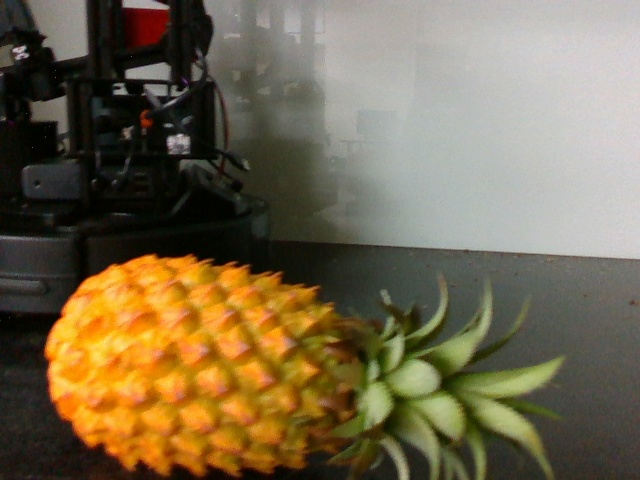pineapple: (37, 251, 566, 478)
